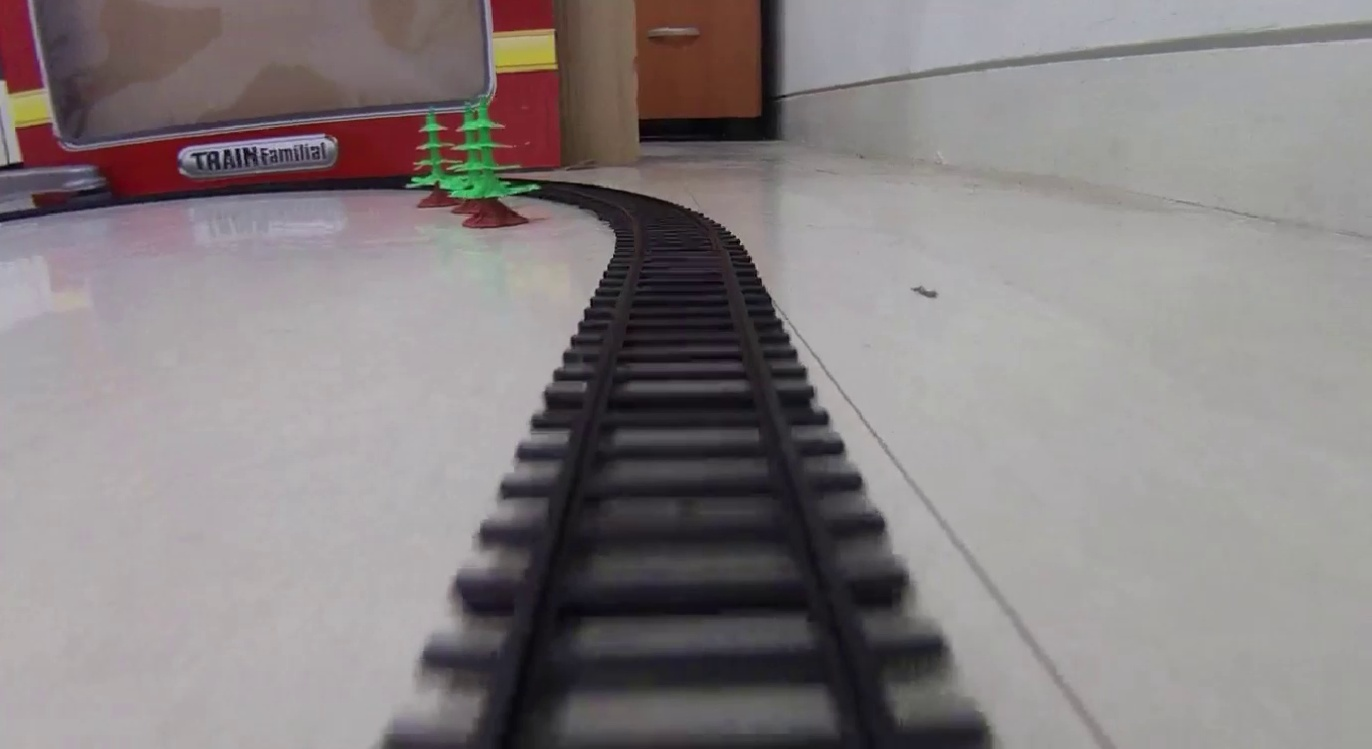tree: (459, 97, 528, 230), (411, 107, 470, 206)
